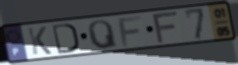7: (183, 6, 206, 42)
D: (51, 22, 80, 55)
F: (151, 10, 180, 46), (117, 15, 144, 48)
K: (26, 25, 54, 56)
Q: (86, 19, 120, 51)
